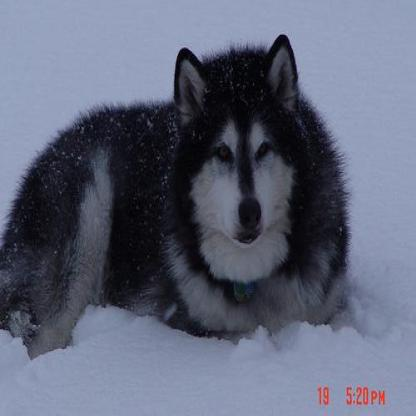malamute: (0, 31, 369, 352)
